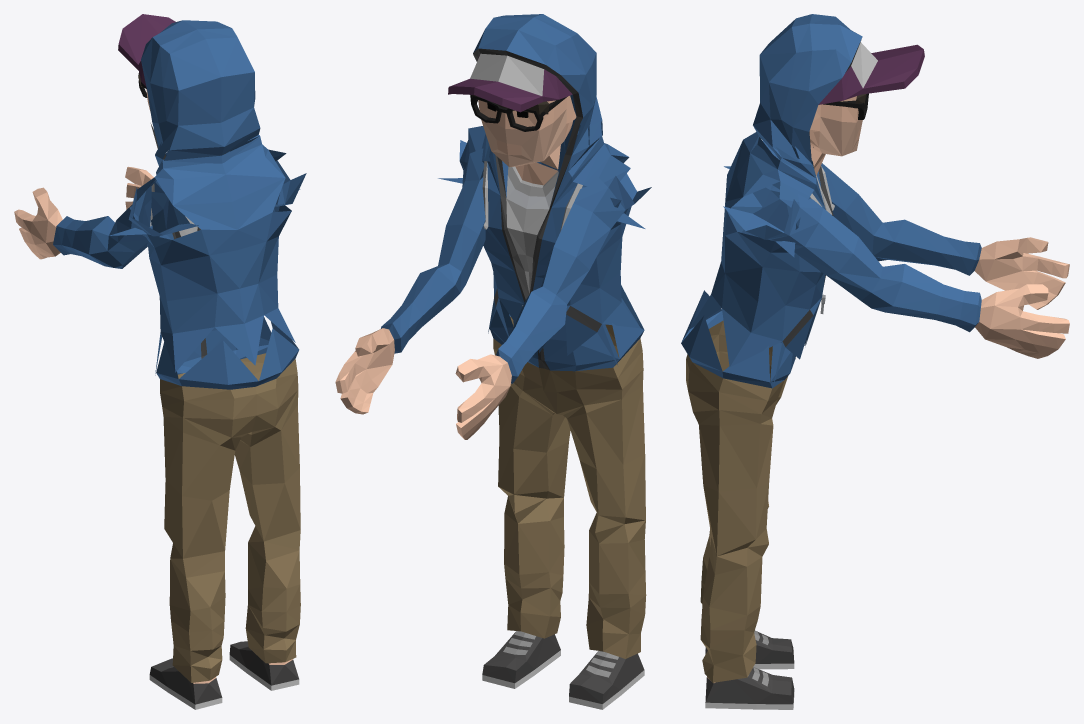
Rendered from Medic_push.obj.
3 renders of one model, left to right at view 1: azimuth 30°, elevation 25°; view 2: azimuth 150°, elevation 25°; view 3: azimuth 270°, elevation 25°, orthographic. The views are drawn at different scales.
Parts seen in each view (by area): view 1: Medic_push; view 2: Medic_push; view 3: Medic_push.
Part boxes in pixels (bbox=[...]): Medic_push: bbox=[14, 14, 306, 709]; Medic_push: bbox=[335, 14, 651, 709]; Medic_push: bbox=[681, 14, 1069, 709].
Bounding box in the file's own units: 0.5821 × 1.82 × 0.9772.
1 material, 1 textured.
